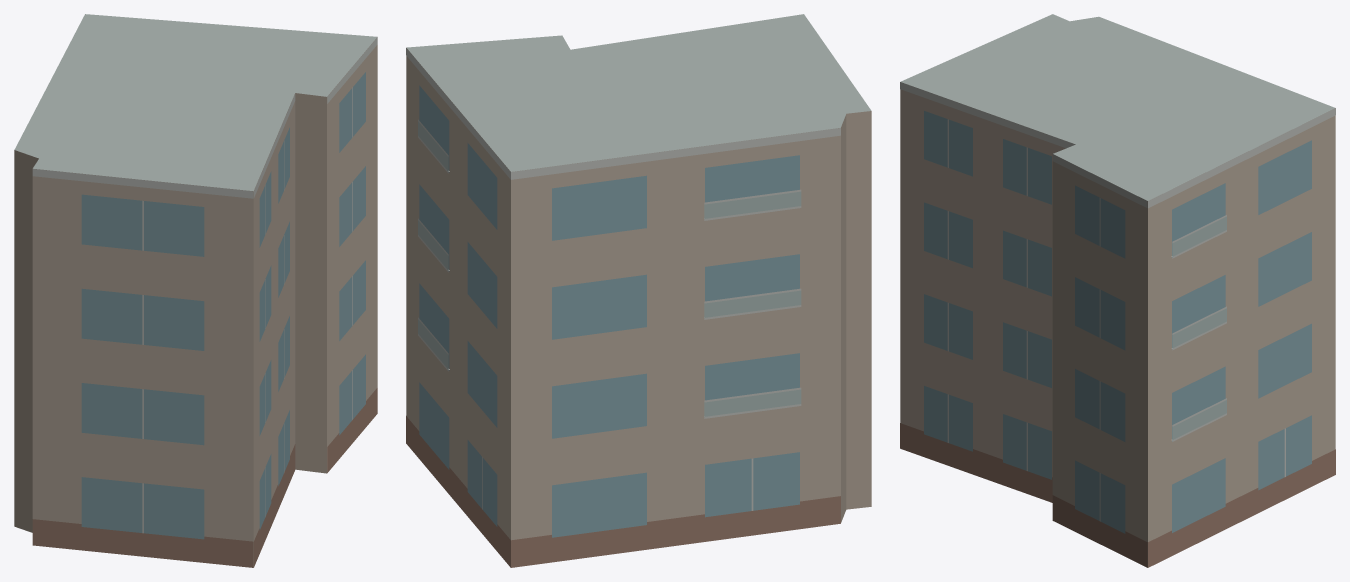
The model's file is survey-upis-32666813.glb.
3 views of the same model, side by side, from view 1: azimuth 30°, elevation 25°; view 2: azimuth 150°, elevation 25°; view 3: azimuth 270°, elevation 25° (orthographic). The views are drawn at different scales.
Parts seen in each view (by area): view 1: survey-upis-32666813.tmp; view 2: survey-upis-32666813.tmp; view 3: survey-upis-32666813.tmp.
Part boxes in pixels (x1,y1,x2,y2): survey-upis-32666813.tmp: (14,14,377,567); survey-upis-32666813.tmp: (406,14,871,567); survey-upis-32666813.tmp: (900,14,1335,567).
Bounding box in the file's own units: 13.36 × 12.2 × 13.14.
